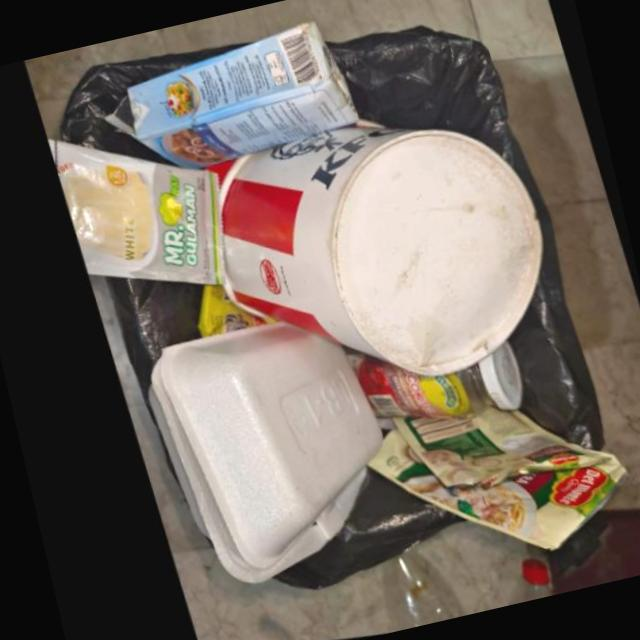bao_bi_thuc_pham: (361, 436, 618, 555), (386, 412, 607, 493)
carton: (218, 130, 539, 382)
chai_thuy_tinh: (344, 345, 517, 424)
goi_nhua_nho: (47, 146, 220, 293)
vo_hop_sua: (102, 24, 357, 175)
xop: (143, 328, 376, 594)
